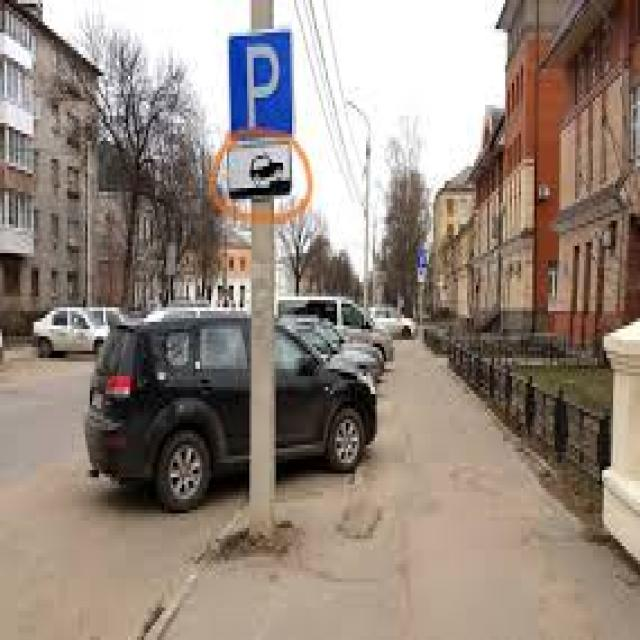parking: (228, 40, 292, 131)
